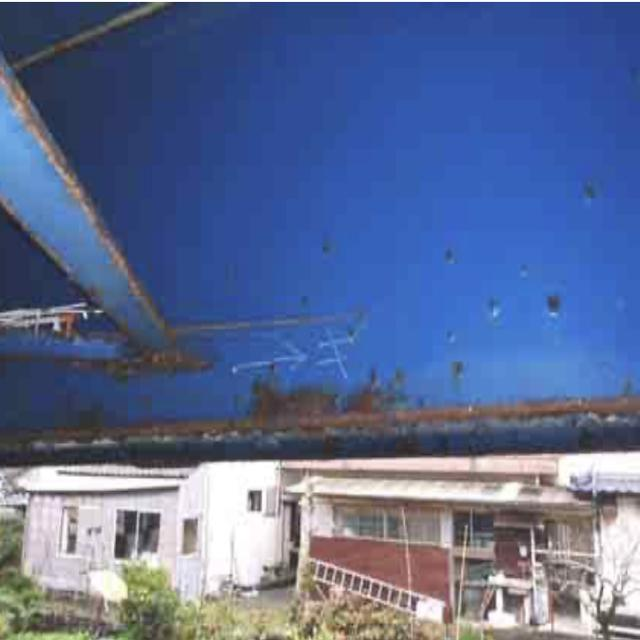corrosion: (44, 393, 629, 450)
